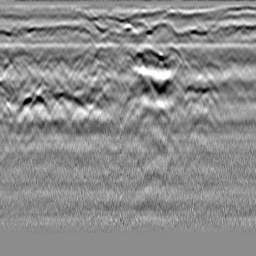cavity: (119, 22, 136, 35)
